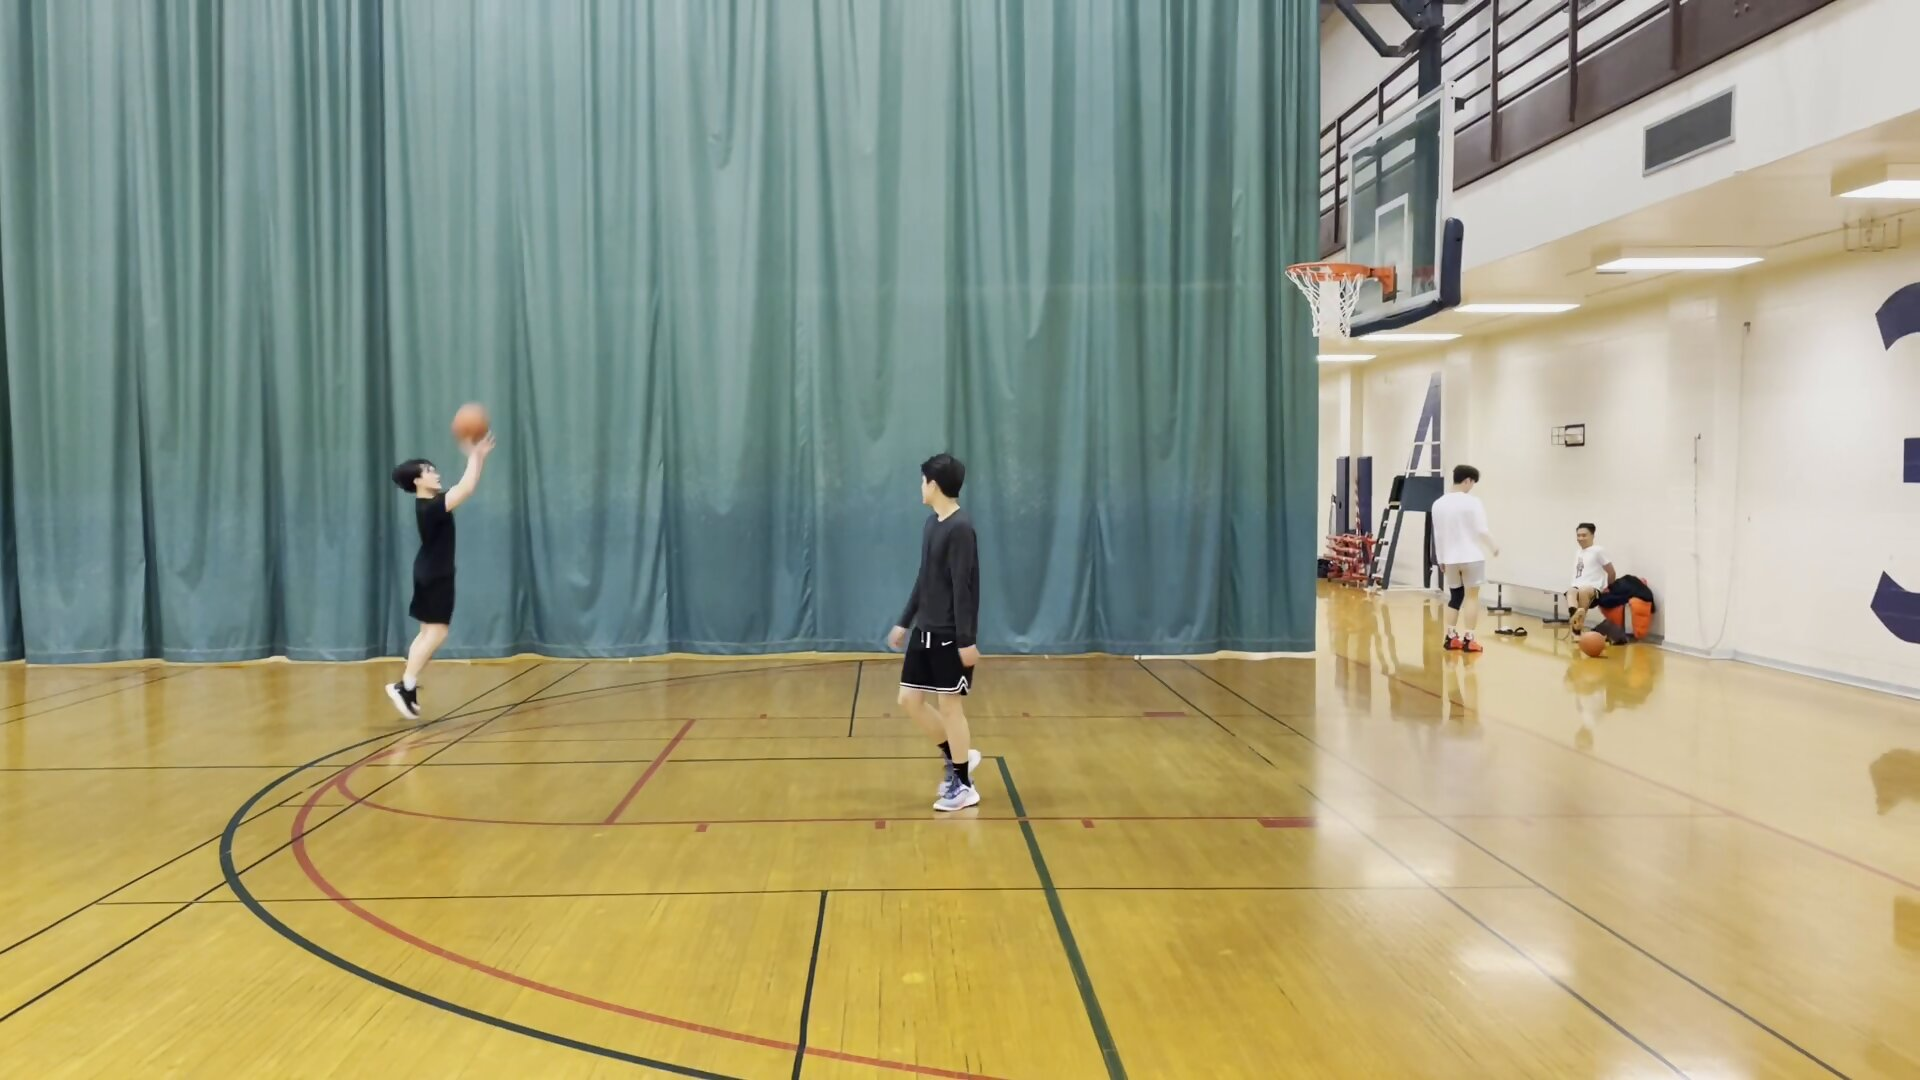ball: (450, 401, 492, 444), (1578, 630, 1608, 658)
net: (1302, 311, 1362, 346)
player: (893, 443, 989, 819), (392, 441, 487, 731), (1429, 460, 1498, 662), (1562, 522, 1606, 635)
rim: (1279, 262, 1376, 287)
